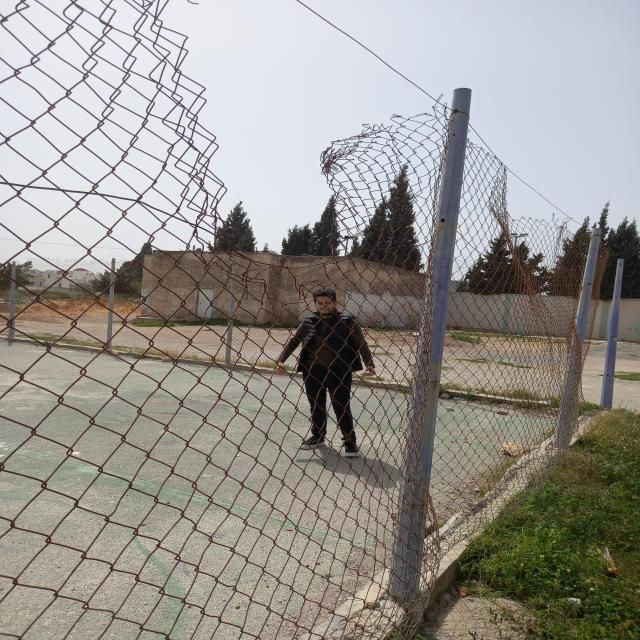fence line: (174, 8, 424, 252), (586, 267, 617, 396), (505, 186, 557, 225)
